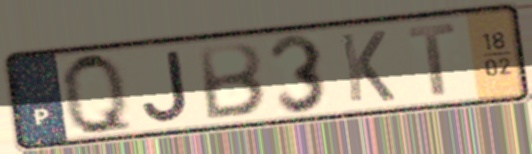3: (267, 32, 330, 117)
B: (196, 40, 268, 123)
J: (139, 47, 193, 125)
K: (336, 28, 398, 105)
Q: (58, 49, 139, 138)
T: (405, 20, 460, 99)
